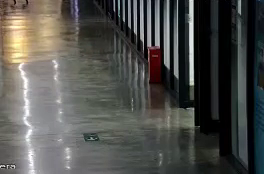robot dog: (12, 1, 32, 8)
